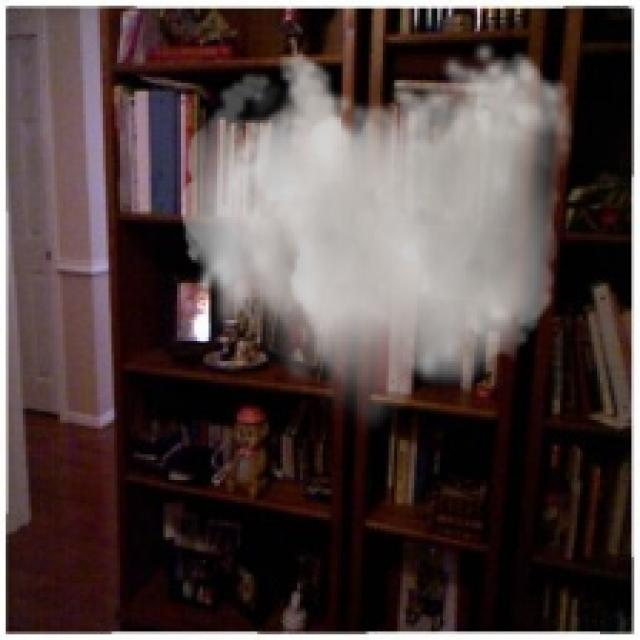smoke: (180, 37, 574, 437)
